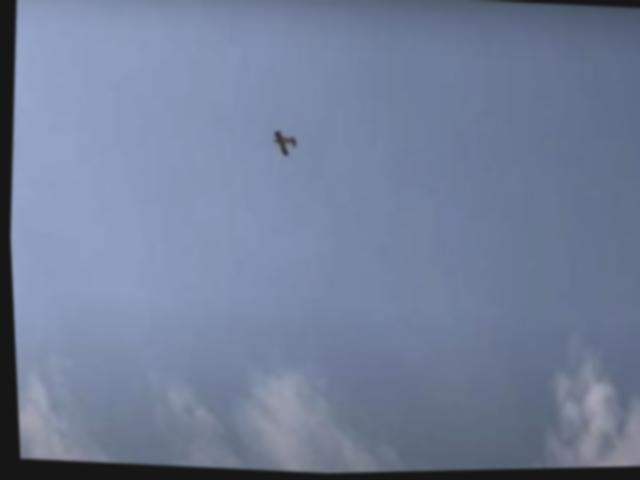uav: (268, 125, 297, 161)
